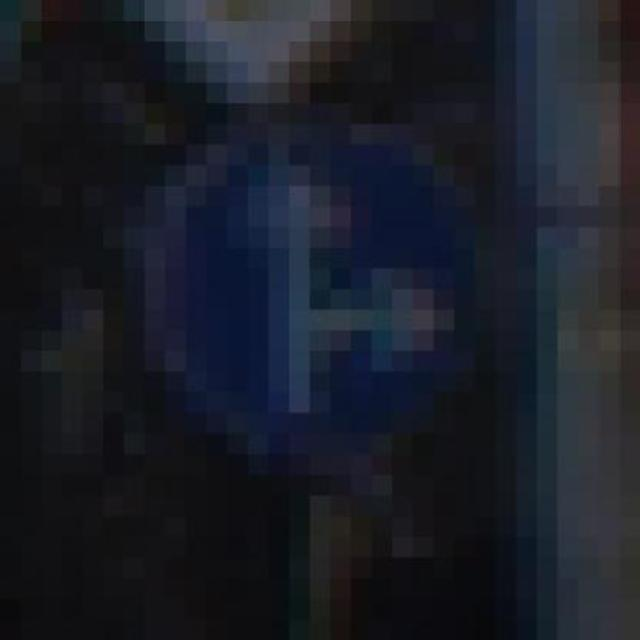Go Straight or Turn Right: (124, 103, 558, 517)
